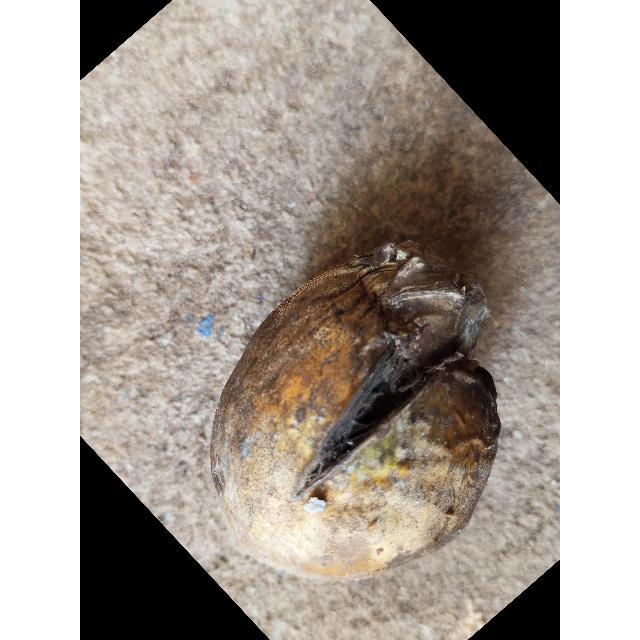damaged: (207, 244, 501, 588)
